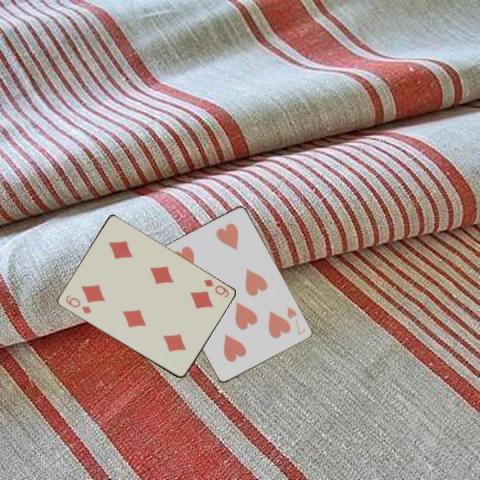6d: (62, 292, 93, 315), (201, 276, 230, 299)
7h: (284, 304, 307, 336)
